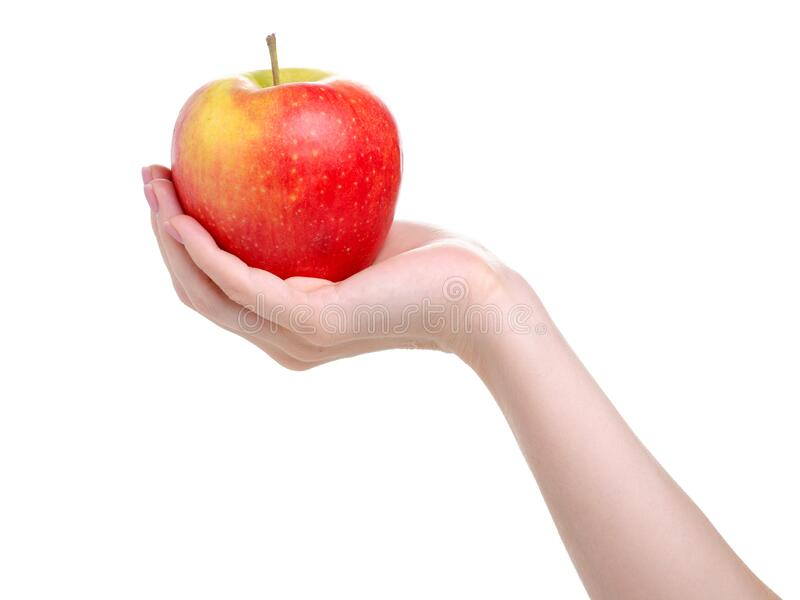apple: (168, 32, 403, 284)
